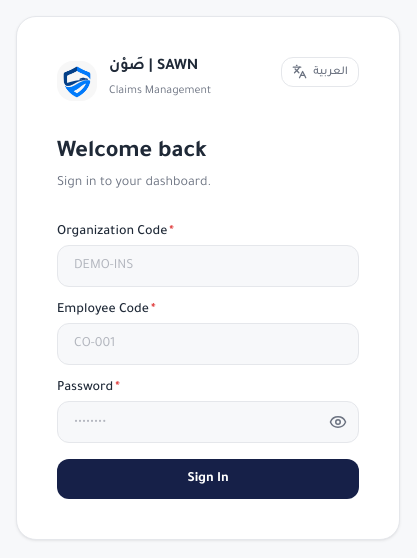
Login language support › switches all login copy and direction between Arabic and English
This screenshot has width=417, height=558.
Expected: the heading "Welcome back" is shown, [57,141,207,165]
Expected: the field labelled "Organization Code*" is shown, [57,245,359,287]
Click the button "العربية". click: (320, 72)
box: [281,57,359,87]
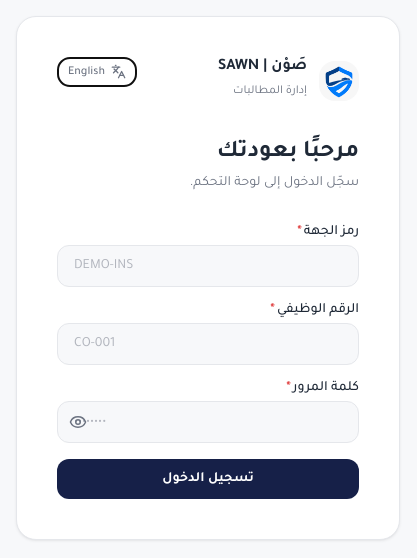
Expected: the heading "مرحبًا بعودتك" is shown, [217,141,359,165]
Expected: the button "تسجيل الدخول" is shown, [57,459,359,499]
Expected: the text "إدارة المطالبات" is shown, [233,85,307,97]
Click the button "English". click: (97, 72)
box: [57,57,137,87]
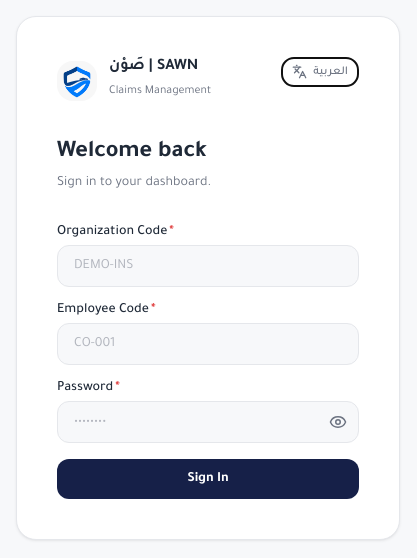
Expected: the field labelled "Organization Code*" is shown, [57,245,359,287]
Expected: the heading "Welcome back" is shown, [57,141,207,165]
